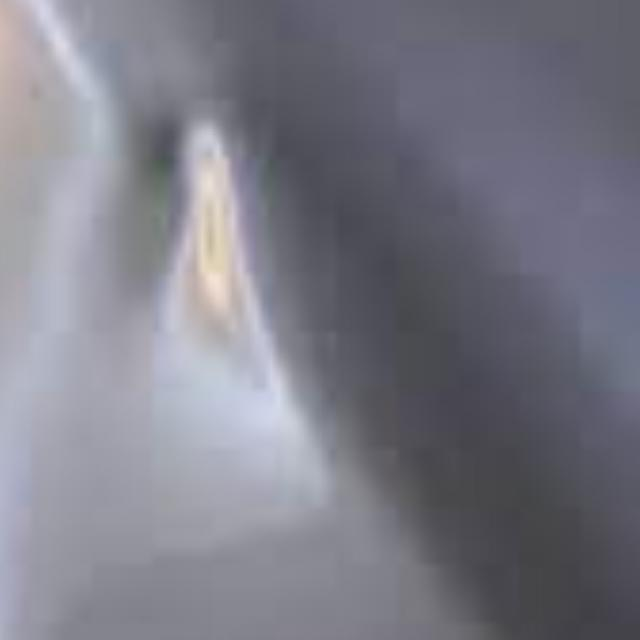dents: (106, 87, 294, 381)
